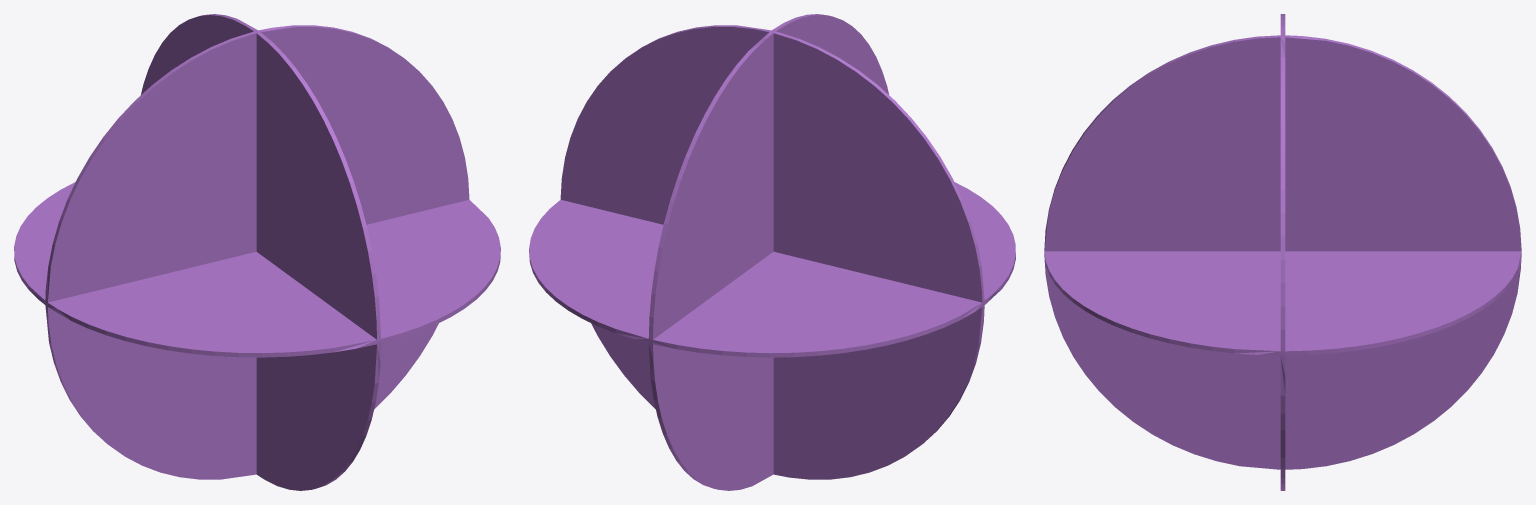
The model's file is tile_337.glb.
3 renders of one model, left to right at view 1: azimuth 30°, elevation 25°; view 2: azimuth 150°, elevation 25°; view 3: azimuth 270°, elevation 25°, orthographic. The views are drawn at different scales.
Size of the model in its own units: 0.1 by 0.1 by 0.1.
